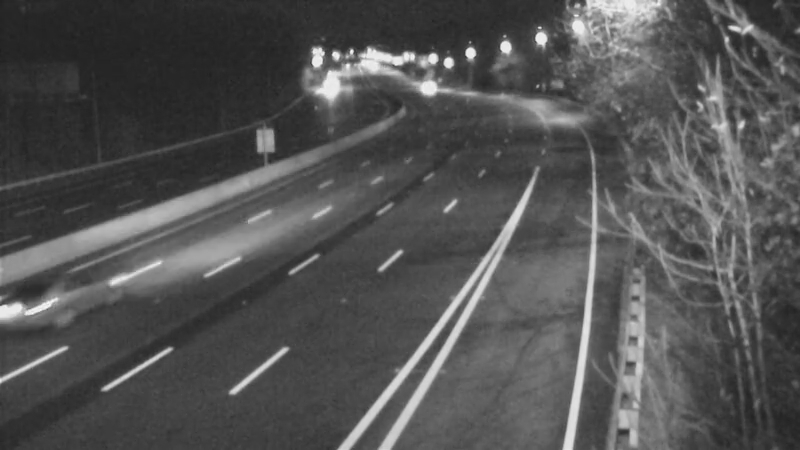vehicle: (21, 252, 101, 332), (400, 63, 450, 113), (309, 61, 359, 111)
